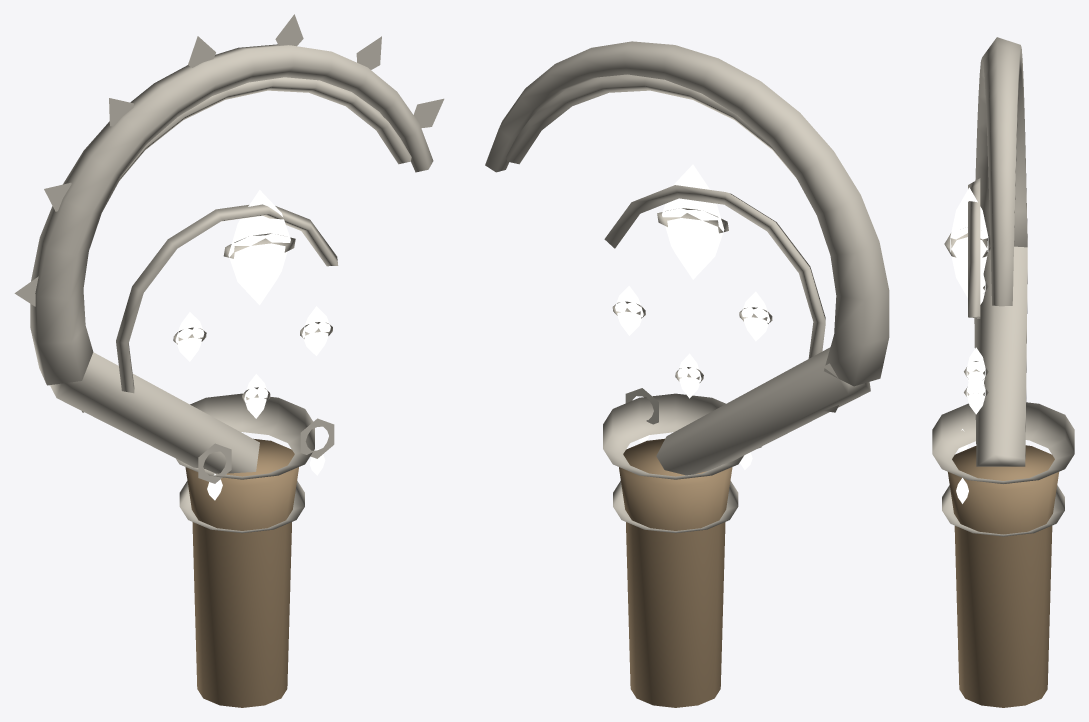
Rendered from head_unique.glb.
The picture shows the model from 3 angles, left to right: view 1: azimuth 30°, elevation 25°; view 2: azimuth 150°, elevation 25°; view 3: azimuth 270°, elevation 25°; orthographic projection.
Parts seen in each view (by area): view 1: head_unique; view 2: head_unique; view 3: head_unique.
Boxes of the visible parts, x1,y1,x2,y2 form: head_unique: (14, 14, 444, 707); head_unique: (485, 41, 889, 707); head_unique: (932, 37, 1074, 707).
Bounding box in the file's own units: 0.357 × 0.5264 × 0.1044.
